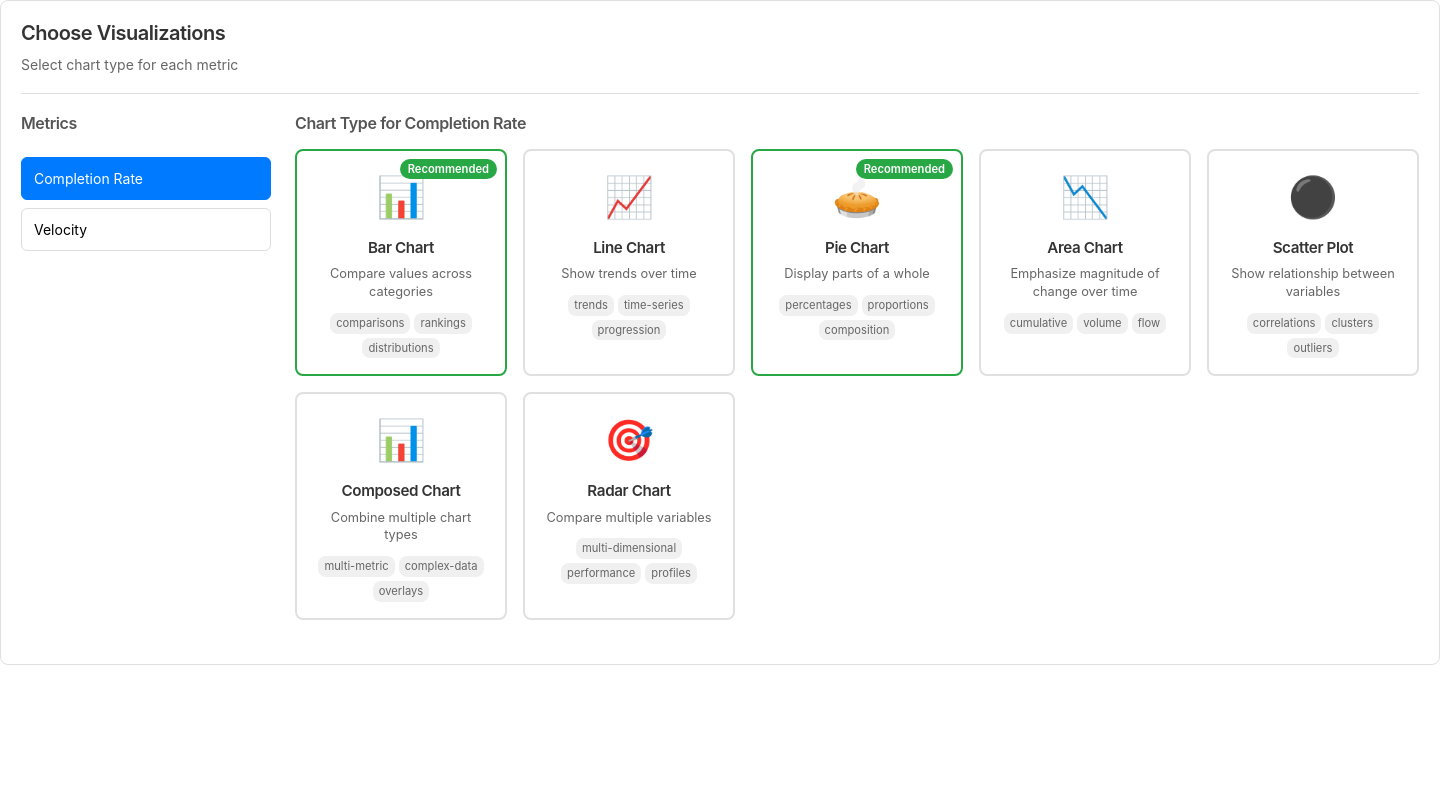
VisualizationPicker › switches active metric when different metric is clicked
Click the button "Velocity" at (146, 229), box [21, 208, 271, 251]
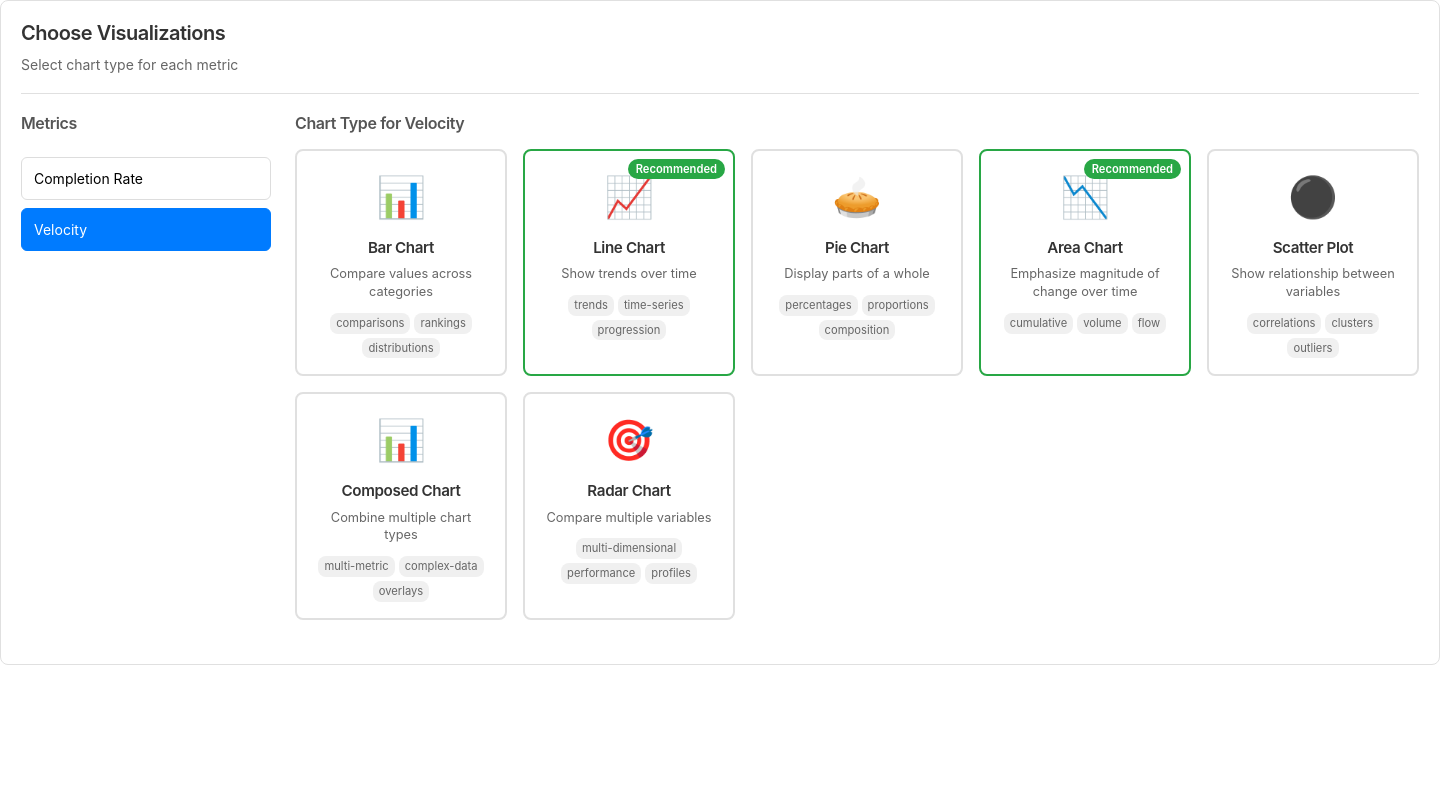
Result: the heading "Chart Type for Velocity" is shown at [295, 112, 464, 132]
